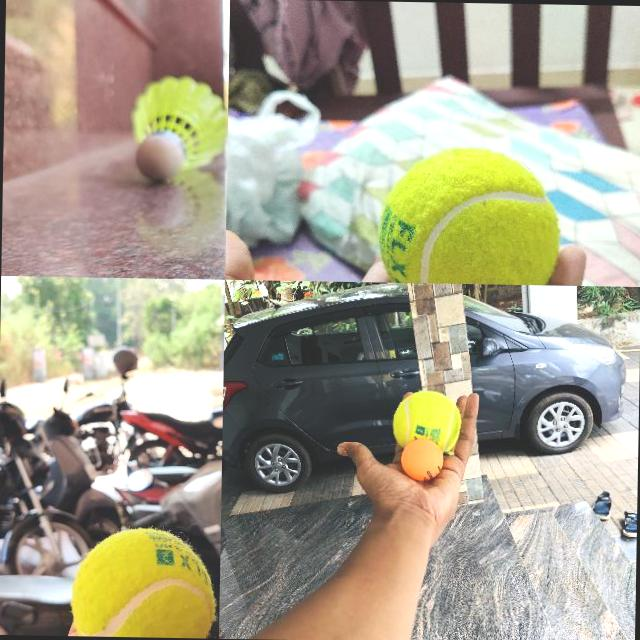tennis-ball: (375, 144, 562, 284), (70, 524, 216, 638), (392, 391, 461, 438)
